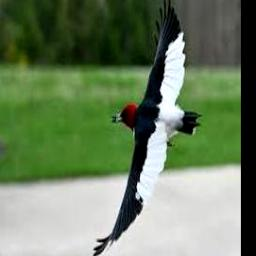Woodpecker: (94, 0, 201, 256)
